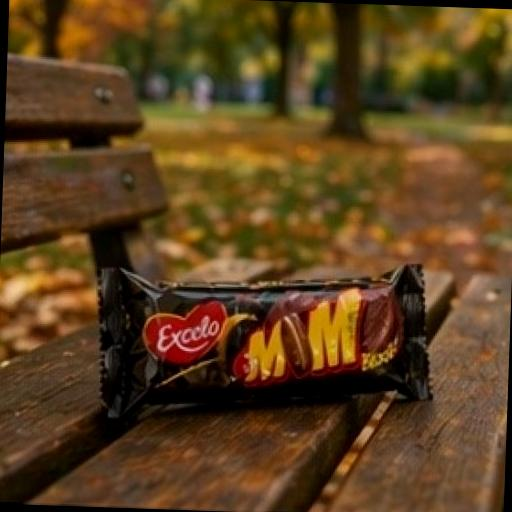MOMO: (58, 232, 512, 442)
